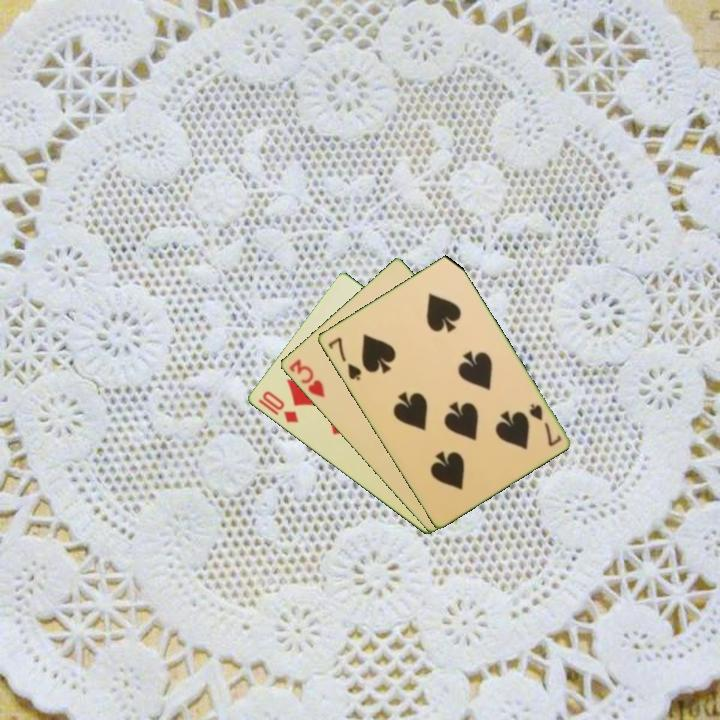10d: (254, 387, 301, 426)
3h: (285, 355, 328, 400)
7s: (324, 334, 364, 383), (525, 400, 564, 449)
